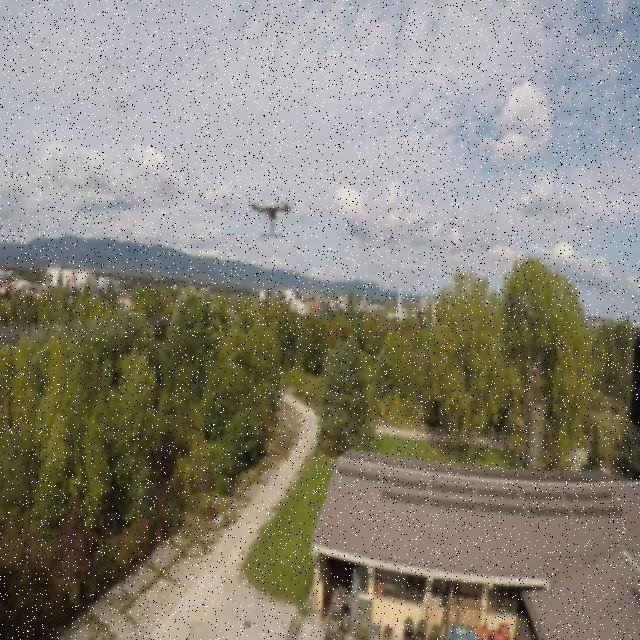UAV: (240, 193, 306, 238)
